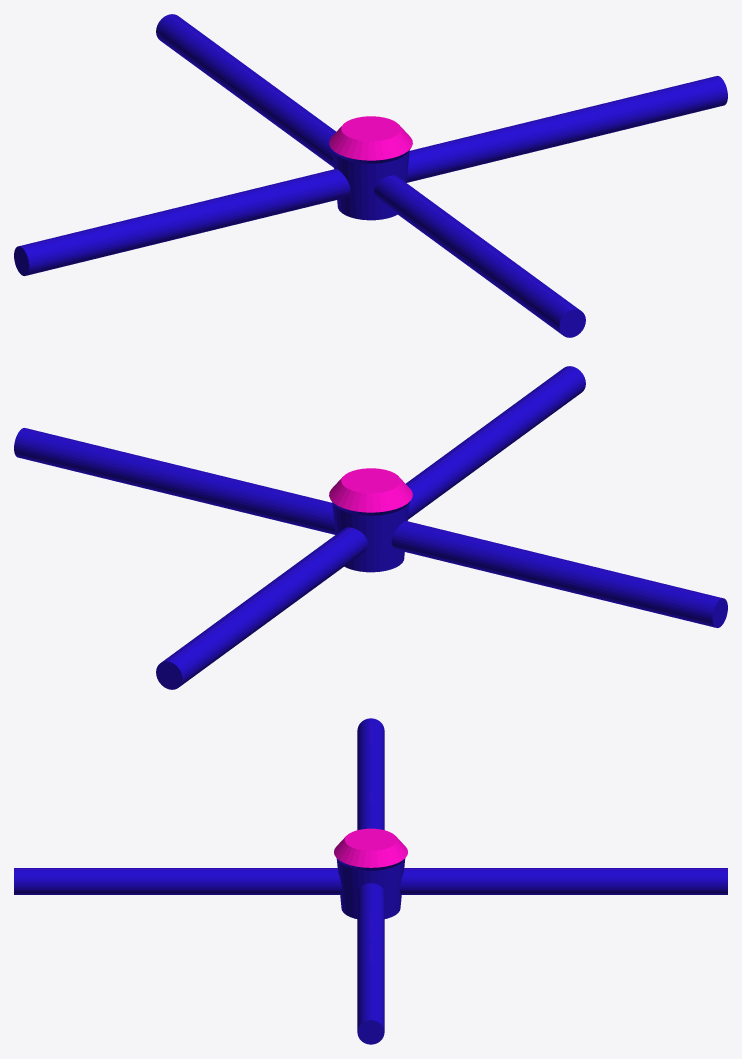
File: turnpinlarge.obj
The picture shows the model from 3 angles, top to bottom: view 1: azimuth 30°, elevation 25°; view 2: azimuth 150°, elevation 25°; view 3: azimuth 270°, elevation 25°; orthographic projection. The views are drawn at different scales.
Visible parts, largest first — view 1: Cylinder.001; view 2: Cylinder.001; view 3: Cylinder.001.
Boxes of the visible parts, <box> form: Cylinder.001: <box>14,14,727,337</box>; Cylinder.001: <box>14,366,727,689</box>; Cylinder.001: <box>14,718,727,1044</box>.
Size of the model in its own units: 24.17 by 2.56 by 24.17.
Materials: 2 (2 with a texture image).
